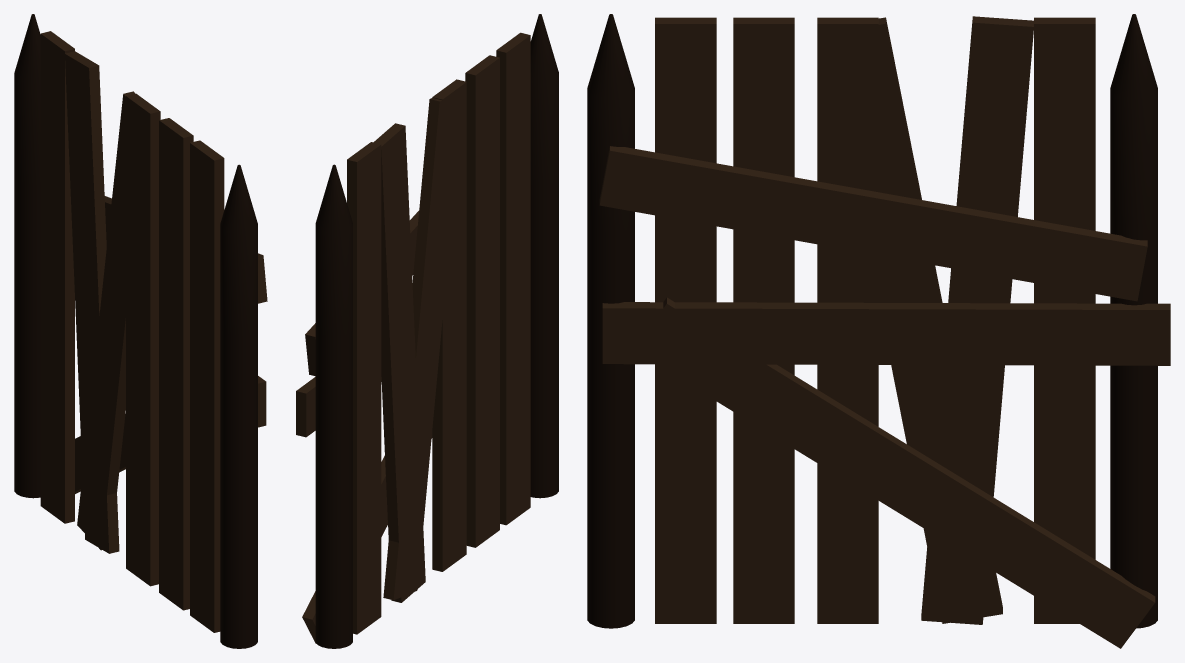
Rendered from SM_FenceWood.fbx.
3 views of the same model, side by side, from view 1: azimuth 30°, elevation 25°; view 2: azimuth 150°, elevation 25°; view 3: azimuth 270°, elevation 25° (orthographic). The views are drawn at different scales.
Parts seen in each view (by area): view 1: FenceWood; view 2: FenceWood; view 3: FenceWood.
Part boxes in pixels (<box>): FenceWood: <box>14,14,267,648</box>; FenceWood: <box>296,14,558,648</box>; FenceWood: <box>587,14,1170,648</box>.
Bounding box in the file's own units: 3.47 × 40.12 × 34.26.
